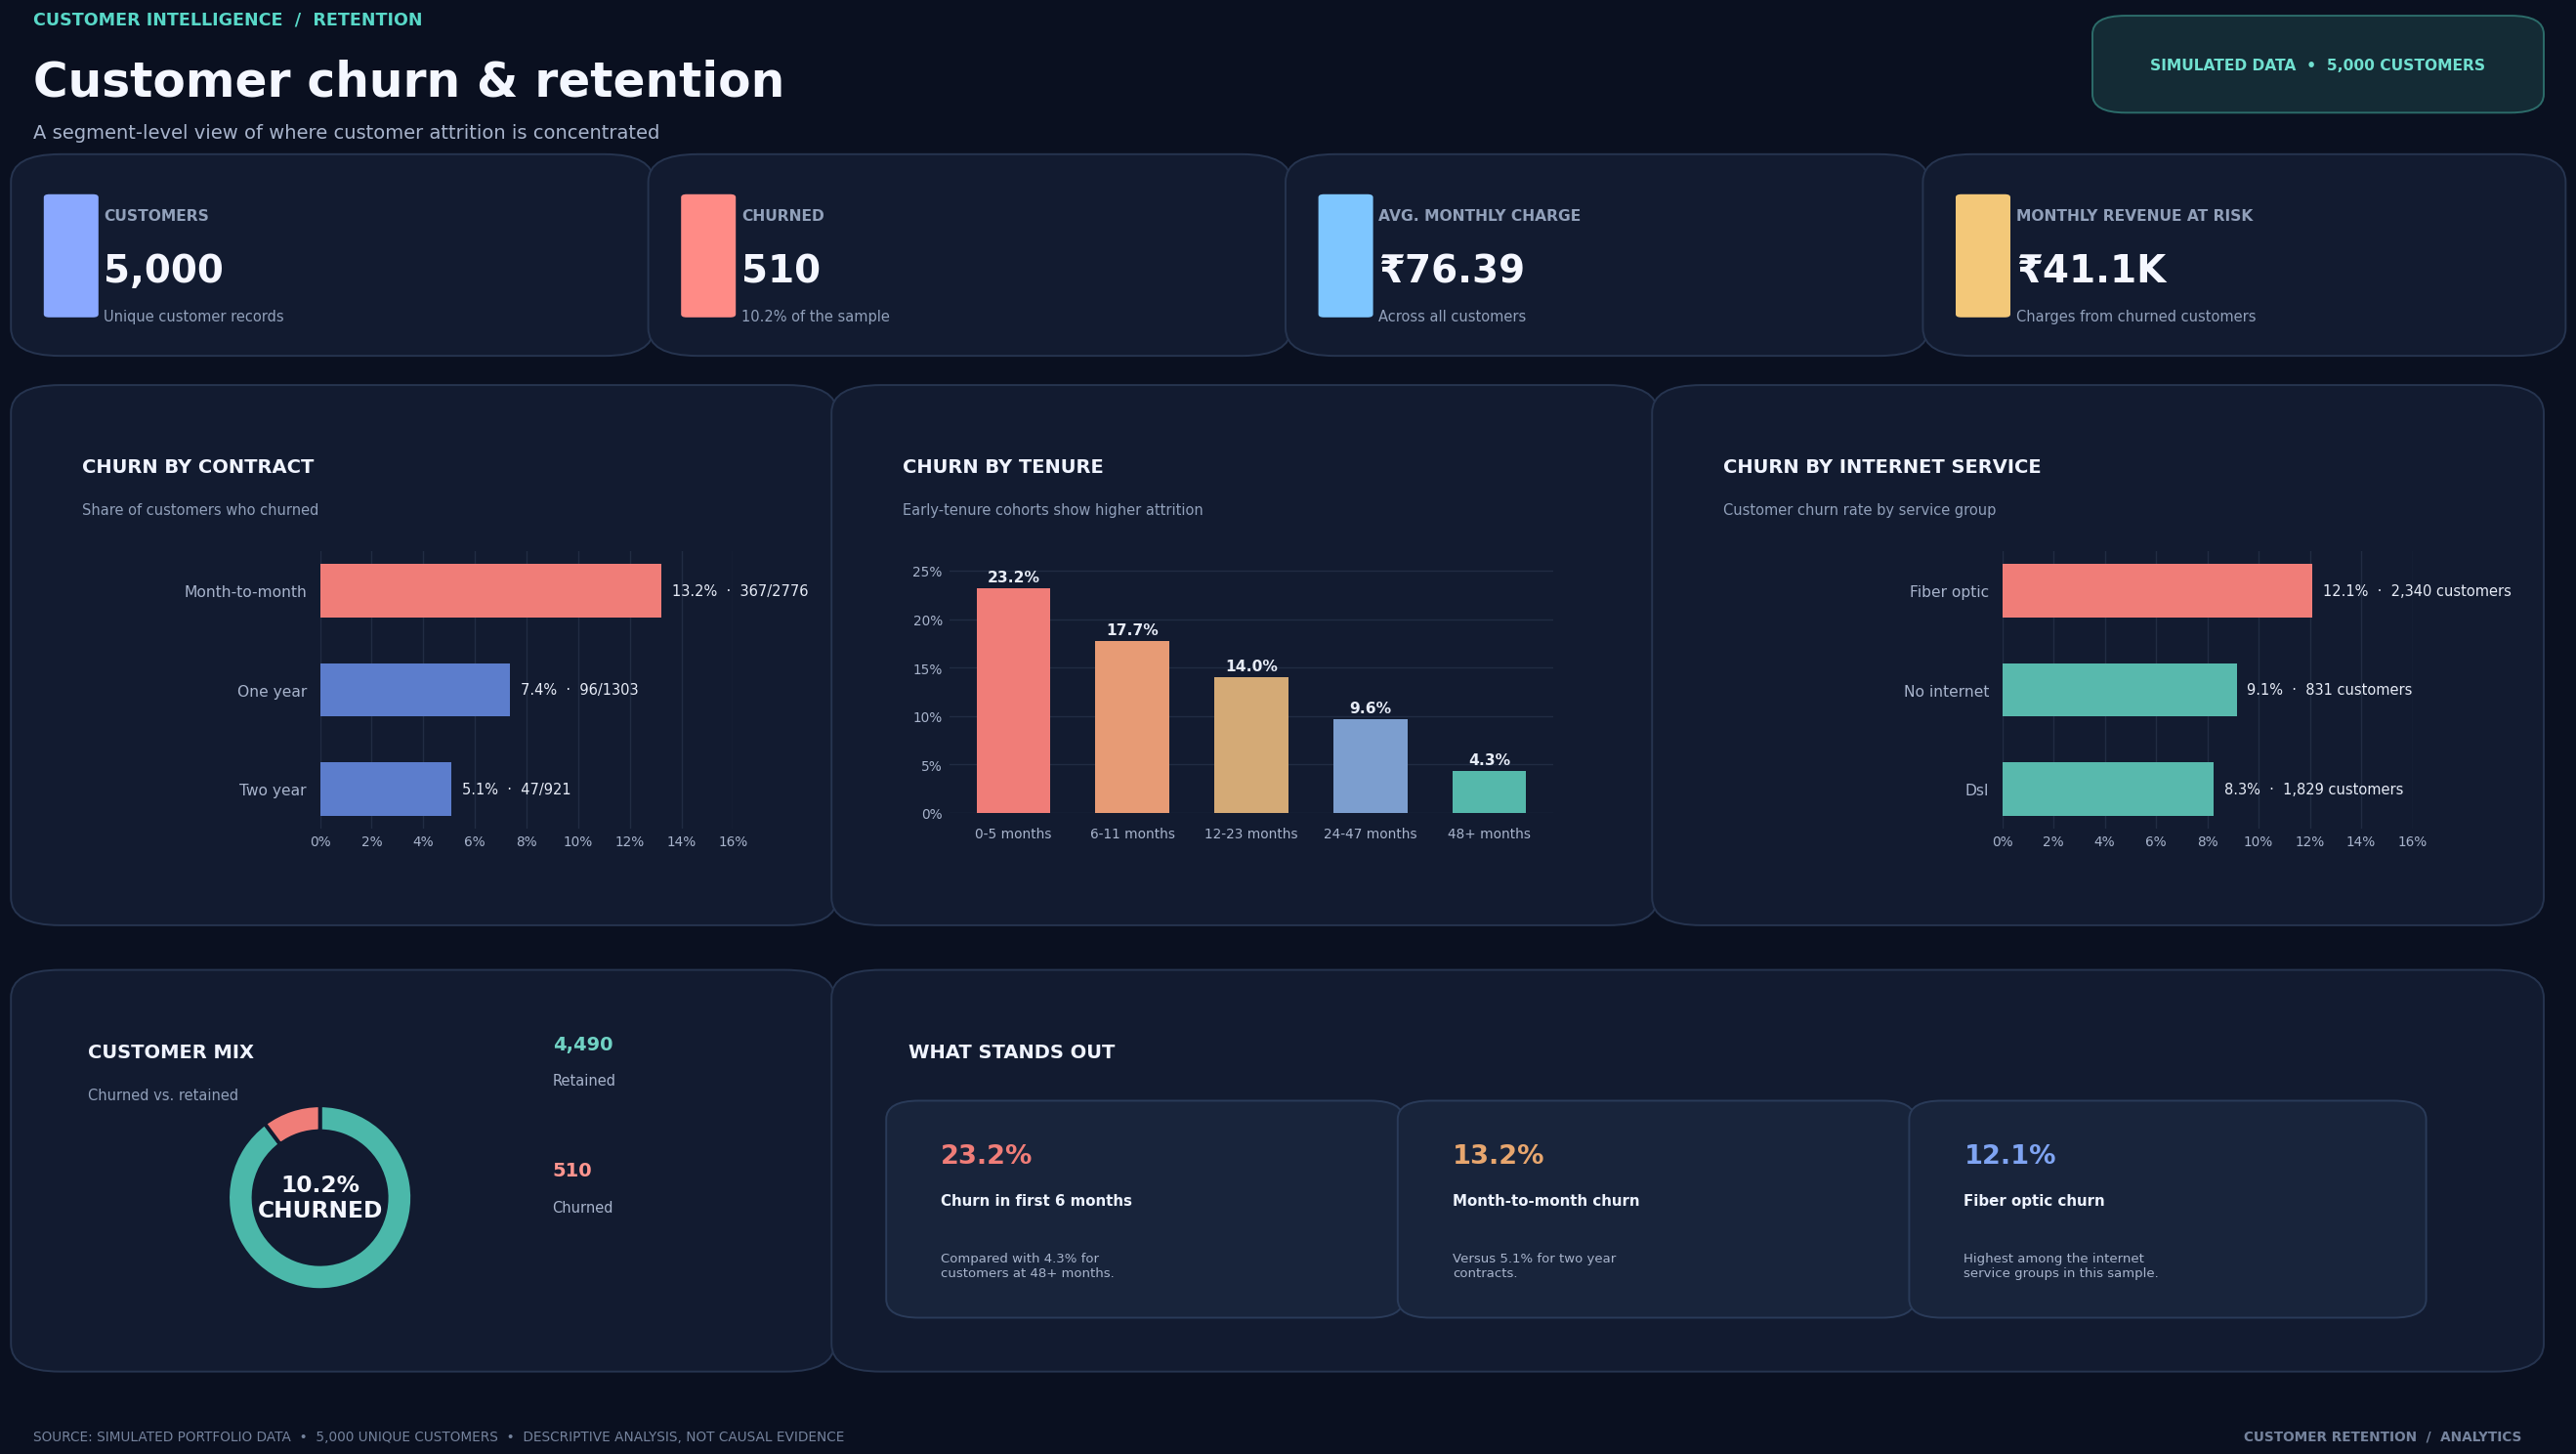

The dashboard page shown, as its layout file describes it:
{"tool":"powerbi","page":{"name":"Customer Churn & Retention","canvas":[1280,720],"ordinal":0},"visuals":[{"type":"shape","box":[420,472,854,198],"z":1},{"type":"cardVisual","title":"TOTAL CUSTOMERS","fields":{"Data":["Customers.Total Customers"]},"box":[6,94,314,96],"z":500},{"type":"cardVisual","title":"CHURNED CUSTOMERS","fields":{"Data":["Customers.Churned Customers"]},"box":[324,94,314,96],"z":600},{"type":"cardVisual","title":"AVERAGE MONTHLY CHARGE","fields":{"Data":["Customers.Average Monthly Charge"]},"box":[642,94,314,96],"z":700},{"type":"cardVisual","title":"MONTHLY REVENUE AT RISK","fields":{"Data":["Customers.Monthly Revenue at Risk"]},"box":[960,94,314,96],"z":800},{"type":"clusteredBarChart","title":"CHURN BY CONTRACT","fields":{"Category":["Customers.contract_type"],"Y":["Customers.Churn Rate"]},"box":[6,194,410,266],"z":2000},{"type":"clusteredColumnChart","title":"CHURN BY TENURE","fields":{"Category":["Customers.Tenure Band"],"Y":["Customers.Churn Rate"]},"box":[420,194,410,266],"z":2100},{"type":"clusteredBarChart","title":"CHURN BY INTERNET SERVICE","fields":{"Category":["Customers.internet_service"],"Y":["Customers.Churn Rate"]},"box":[834,194,440,266],"z":2200},{"type":"donutChart","title":"CUSTOMER MIX","fields":{"Category":["Customers.churn"],"Y":["Customers.Total Customers"]},"box":[6,472,410,198],"z":3000},{"type":"cardVisual","title":"EARLY TENURE CHURN","fields":{"Data":["Customers.Early Tenure Churn Rate"]},"box":[440,522,257,116],"z":4000},{"type":"cardVisual","title":"MONTH-TO-MONTH CHURN","fields":{"Data":["Customers.Month-to-Month Churn Rate"]},"box":[713,522,257,116],"z":4000},{"type":"cardVisual","title":"FIBER OPTIC CHURN","fields":{"Data":["Customers.Fiber Optic Churn Rate"]},"box":[986,522,257,116],"z":4000},{"type":"textbox","box":[16,2,760,22],"z":5000},{"type":"textbox","box":[1022,7,242,46],"z":5000},{"type":"textbox","box":[16,22,820,46],"z":5000},{"type":"textbox","box":[16,68,820,22],"z":5000},{"type":"textbox","box":[452,485,300,26],"z":5000},{"type":"textbox","box":[15.8,689.8,940.3,21.6],"z":5000},{"type":"textbox","box":[999.4,689.8,265,21.6],"z":5000}]}

Visuals, with their boxes in screenshot pixels (x1, y1, x2, y2), scaled from the page's 1280x720 canvas onto the 2576x1454 screenshot:
shape: {"x1": 845, "y1": 953, "x2": 2564, "y2": 1353}
"TOTAL CUSTOMERS" cardVisual: {"x1": 12, "y1": 190, "x2": 644, "y2": 384}
"CHURNED CUSTOMERS" cardVisual: {"x1": 652, "y1": 190, "x2": 1284, "y2": 384}
"AVERAGE MONTHLY CHARGE" cardVisual: {"x1": 1292, "y1": 190, "x2": 1924, "y2": 384}
"MONTHLY REVENUE AT RISK" cardVisual: {"x1": 1932, "y1": 190, "x2": 2564, "y2": 384}
"CHURN BY CONTRACT" clusteredBarChart: {"x1": 12, "y1": 392, "x2": 837, "y2": 929}
"CHURN BY TENURE" clusteredColumnChart: {"x1": 845, "y1": 392, "x2": 1670, "y2": 929}
"CHURN BY INTERNET SERVICE" clusteredBarChart: {"x1": 1678, "y1": 392, "x2": 2564, "y2": 929}
"CUSTOMER MIX" donutChart: {"x1": 12, "y1": 953, "x2": 837, "y2": 1353}
"EARLY TENURE CHURN" cardVisual: {"x1": 885, "y1": 1054, "x2": 1403, "y2": 1289}
"MONTH-TO-MONTH CHURN" cardVisual: {"x1": 1435, "y1": 1054, "x2": 1952, "y2": 1289}
"FIBER OPTIC CHURN" cardVisual: {"x1": 1984, "y1": 1054, "x2": 2502, "y2": 1289}
textbox: {"x1": 32, "y1": 4, "x2": 1562, "y2": 49}
textbox: {"x1": 2056, "y1": 14, "x2": 2544, "y2": 107}
textbox: {"x1": 32, "y1": 44, "x2": 1682, "y2": 138}
textbox: {"x1": 32, "y1": 138, "x2": 1682, "y2": 182}
textbox: {"x1": 909, "y1": 979, "x2": 1513, "y2": 1032}
textbox: {"x1": 32, "y1": 1393, "x2": 1924, "y2": 1436}
textbox: {"x1": 2011, "y1": 1393, "x2": 2545, "y2": 1436}
